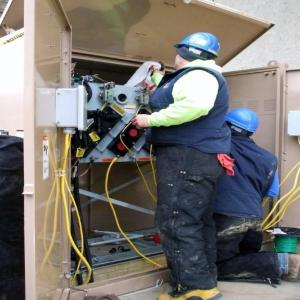blue: (172, 31, 224, 71), (225, 109, 262, 142)
